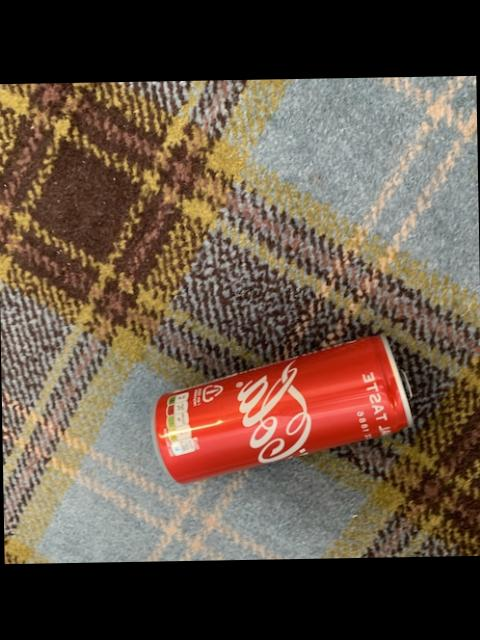metal: (150, 335, 409, 482)
